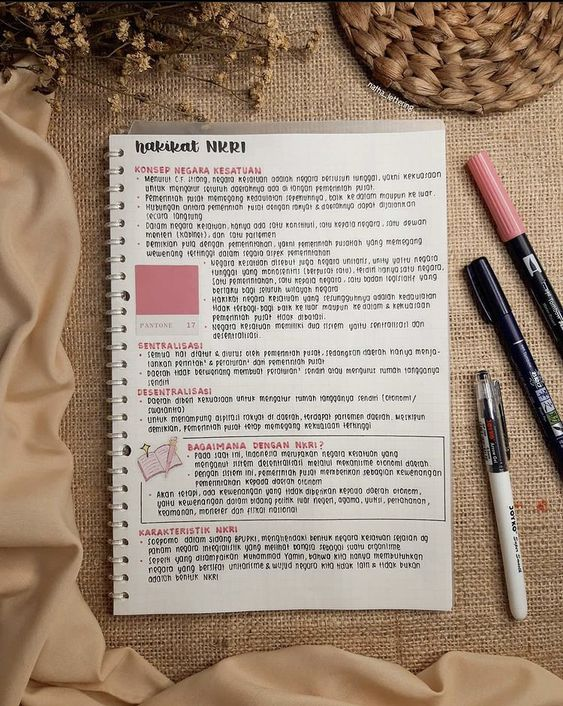page: (131, 138, 448, 616)
